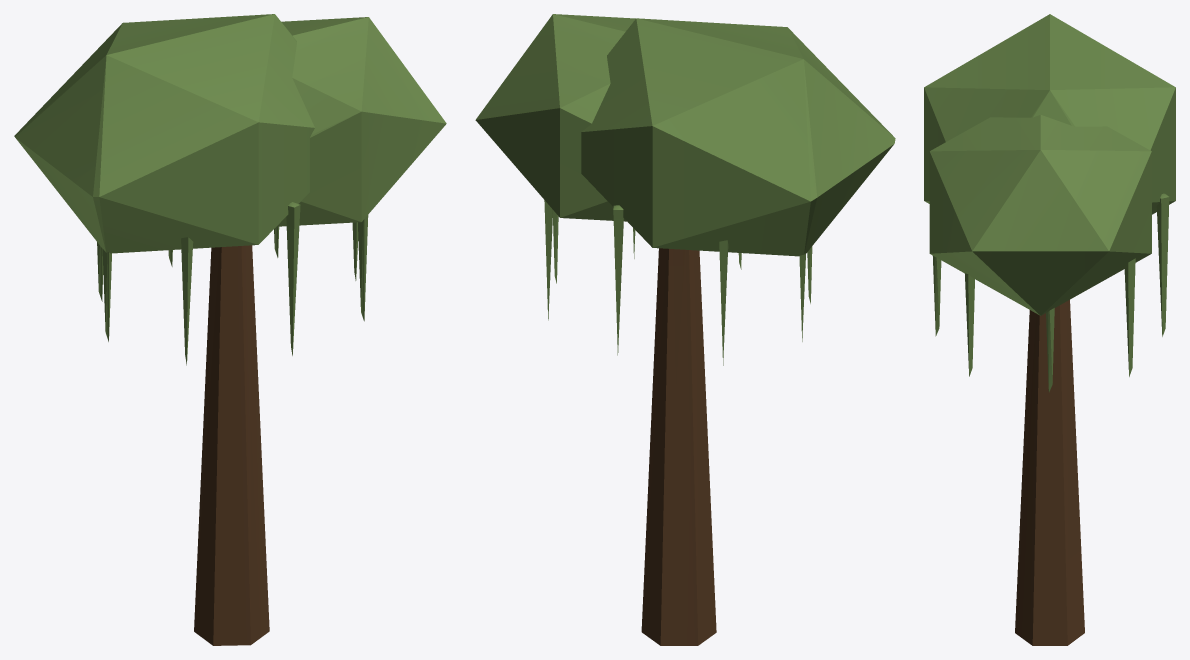
File: prop_willow_lod2.glb
3 views of the same model, side by side, from view 1: azimuth 30°, elevation 25°; view 2: azimuth 150°, elevation 25°; view 3: azimuth 270°, elevation 25° (orthographic). The views are drawn at different scales.
Visible parts, largest first — view 1: prop_willow_lod2; view 2: prop_willow_lod2; view 3: prop_willow_lod2.
Boxes of the visible parts, bbox=[...] form: prop_willow_lod2: bbox=[14, 14, 446, 645]; prop_willow_lod2: bbox=[475, 14, 895, 645]; prop_willow_lod2: bbox=[924, 14, 1175, 645].
Bounding box in the file's own units: 3.24 × 5.37 × 2.18.
